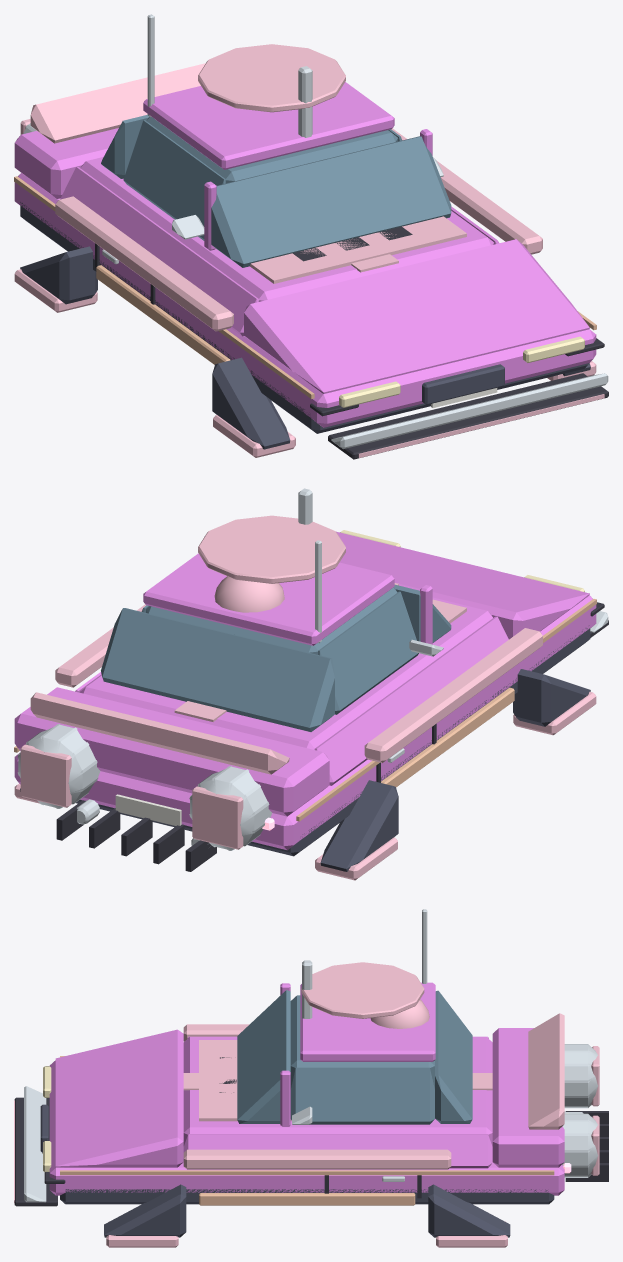
The model's file is gravity_glider.fbx.
3 views of the same model, one above another, from view 1: azimuth 30°, elevation 25°; view 2: azimuth 150°, elevation 25°; view 3: azimuth 270°, elevation 25° (orthographic). The views are drawn at different scales.
Visible parts, largest first — view 1: Body, Glass, Light, Trim2, Accent3, Accent, Trim, Accent2, Light2; view 2: Body, Glass, Light, Trim2, Accent, Accent3, Trim, Accent2, Accent4, Metal; view 3: Body, Glass, Light, Trim2, Accent, Accent3, Accent2, Trim, Light2.
Boxes of the visible parts, x1=… form: Body: x1=14, y1=82, x2=596, y2=427; Glass: x1=101, y1=114, x2=451, y2=267; Light: x1=14, y1=44, x2=604, y2=457; Trim2: x1=20, y1=202, x2=590, y2=449; Accent3: x1=30, y1=63, x2=466, y2=283; Accent: x1=23, y1=14, x2=608, y2=449; Trim: x1=95, y1=226, x2=608, y2=459; Accent2: x1=14, y1=176, x2=596, y2=398; Light2: x1=339, y1=336, x2=584, y2=407; Body: x1=14, y1=531, x2=596, y2=850; Glass: x1=101, y1=584, x2=451, y2=731; Light: x1=14, y1=515, x2=596, y2=880; Trim2: x1=20, y1=625, x2=590, y2=871; Accent: x1=17, y1=488, x2=608, y2=850; Accent3: x1=30, y1=599, x2=466, y2=774; Trim: x1=56, y1=602, x2=608, y2=871; Accent2: x1=14, y1=599, x2=596, y2=821; Accent4: x1=115, y1=794, x2=181, y2=825; Metal: x1=77, y1=748, x2=404, y2=847; Body: x1=49, y1=982, x2=564, y2=1195; Glass: x1=237, y1=990, x2=472, y2=1124; Light: x1=14, y1=962, x2=599, y2=1247; Trim2: x1=40, y1=1104, x2=554, y2=1237; Accent: x1=24, y1=909, x2=598, y2=1202; Accent3: x1=199, y1=1013, x2=564, y2=1129; Accent2: x1=60, y1=1056, x2=554, y2=1205; Trim: x1=14, y1=1057, x2=608, y2=1206; Light2: x1=43, y1=1066, x2=51, y2=1172.
Bounding box in the file's own units: 3.2 × 2.52 × 5.78.
